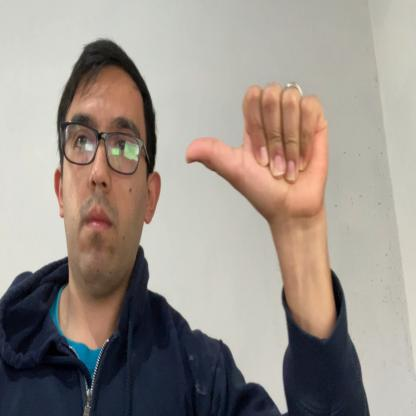A: (186, 81, 328, 219)
